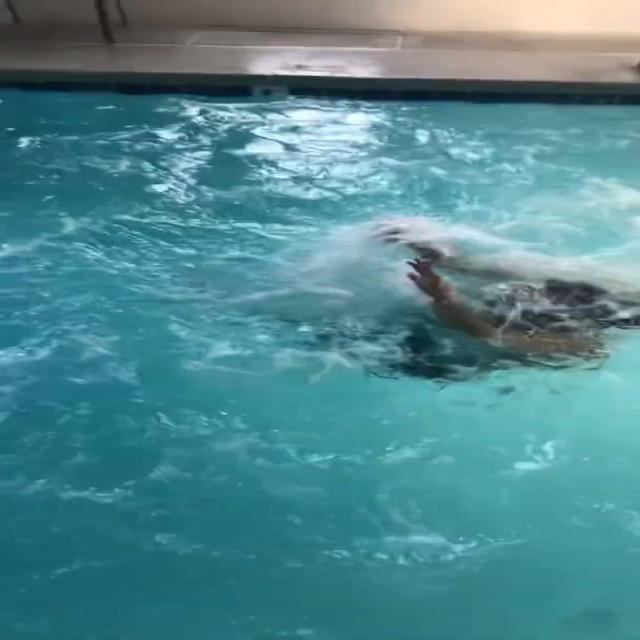Drowning: (344, 219, 640, 385)
